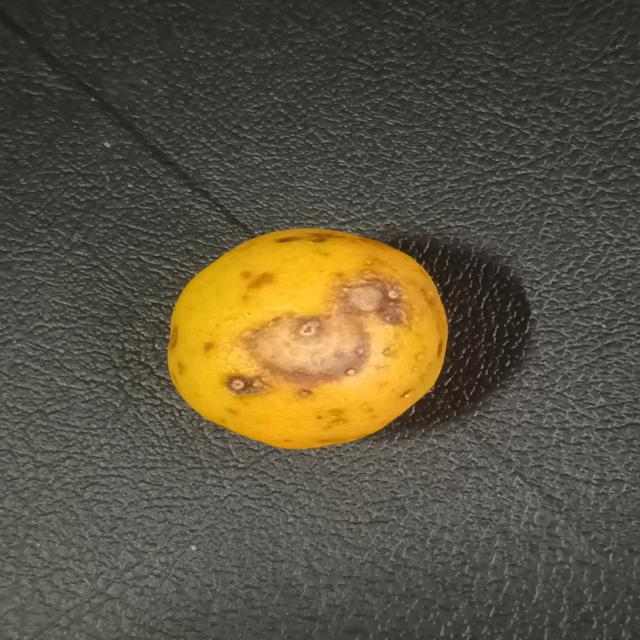black spot: (160, 228, 458, 460)
